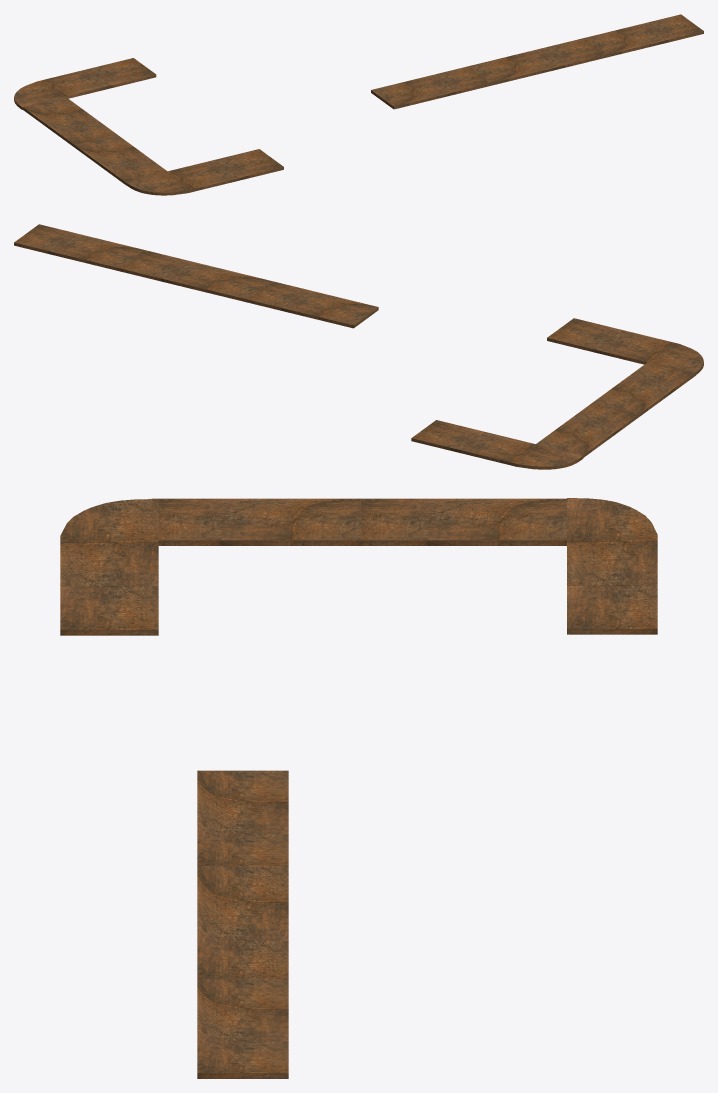
The model's file is tavern_180.gltf.
3 renders of one model, top to bottom at view 1: azimuth 30°, elevation 25°; view 2: azimuth 150°, elevation 25°; view 3: azimuth 270°, elevation 25°, orthographic. The views are drawn at different scales.
Visible parts, largest first — view 1: Box123_Material #170_0.012; view 2: Box123_Material #170_0.012; view 3: Box123_Material #170_0.012.
Part boxes in pixels (x1,y1,x2,y2): Box123_Material #170_0.012: [14, 14, 703, 195]; Box123_Material #170_0.012: [14, 224, 703, 469]; Box123_Material #170_0.012: [60, 498, 657, 1078].
Size of the model in its own units: 117 by 0.5261 by 51.36.
